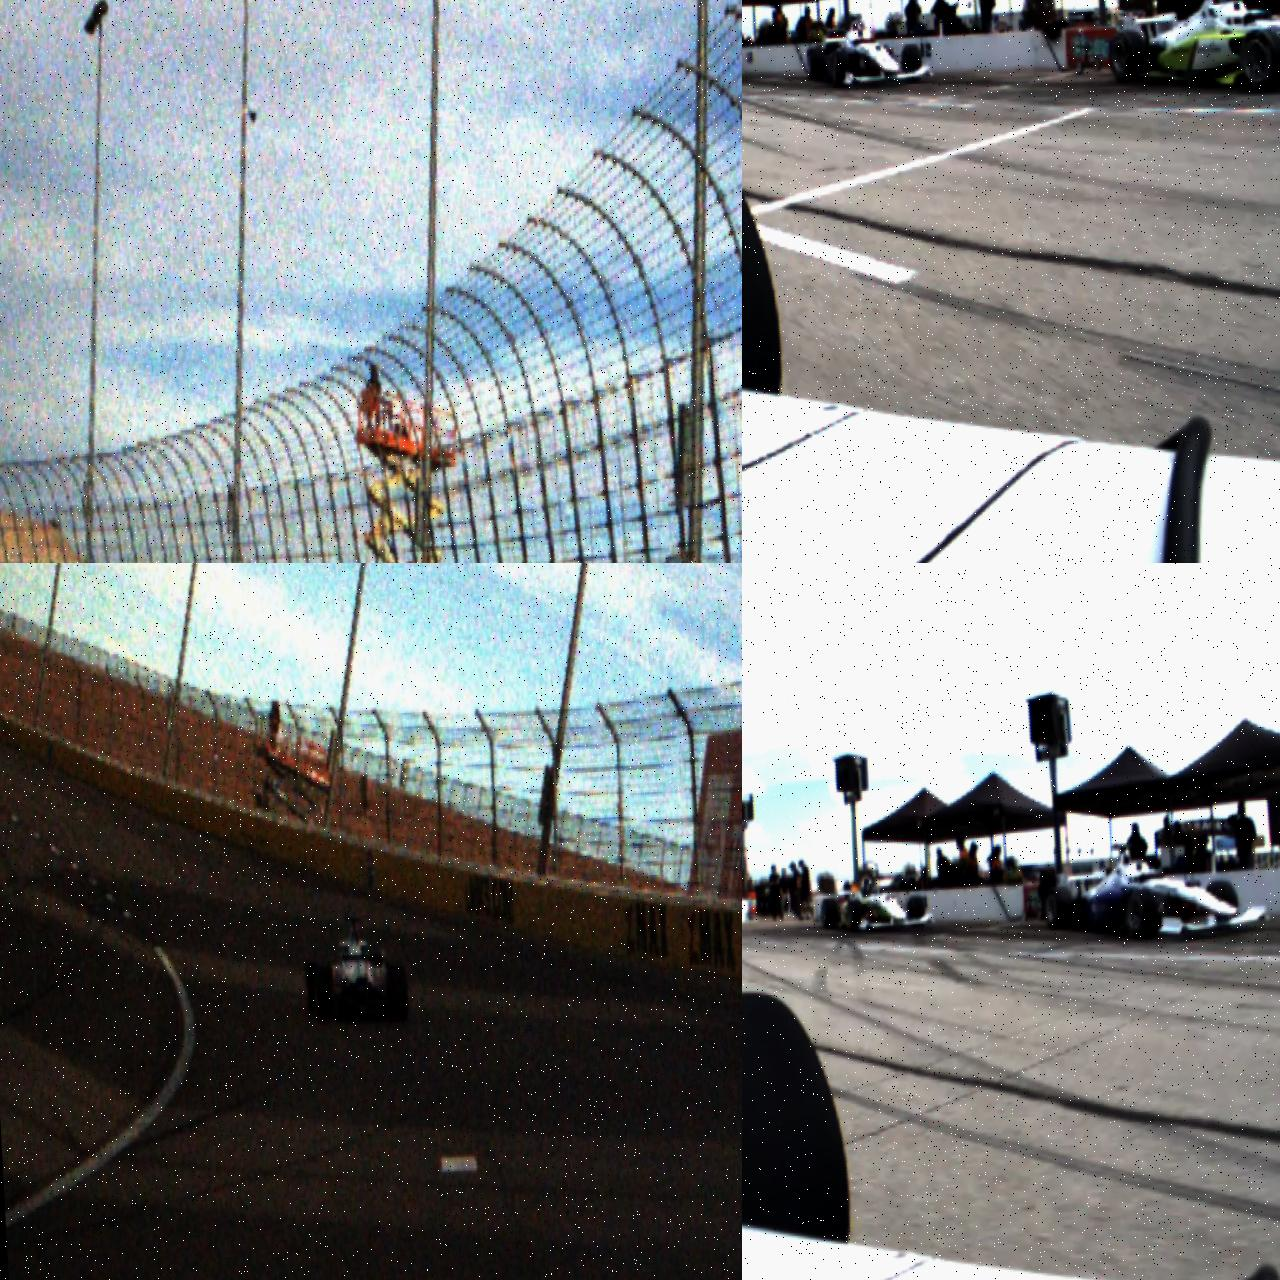AV: (1040, 834, 1270, 946), (1104, 0, 1280, 102), (302, 912, 409, 1026), (804, 10, 934, 94), (818, 864, 934, 933)
Wheel: (742, 984, 852, 1256), (1238, 26, 1280, 94), (1106, 28, 1148, 86), (1122, 886, 1158, 941), (1204, 878, 1240, 925), (1042, 886, 1070, 930), (312, 965, 334, 1020), (388, 964, 409, 1021), (304, 960, 322, 1014), (900, 42, 921, 84), (806, 46, 825, 82), (906, 896, 925, 928), (820, 899, 838, 928), (846, 900, 860, 930)
